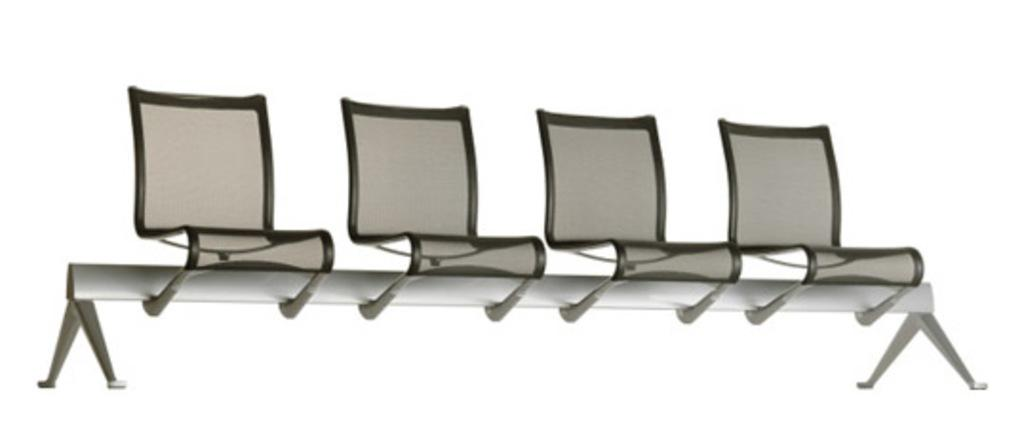Chair: (129, 84, 333, 314), (527, 106, 742, 321), (716, 116, 927, 321), (345, 99, 548, 312)
